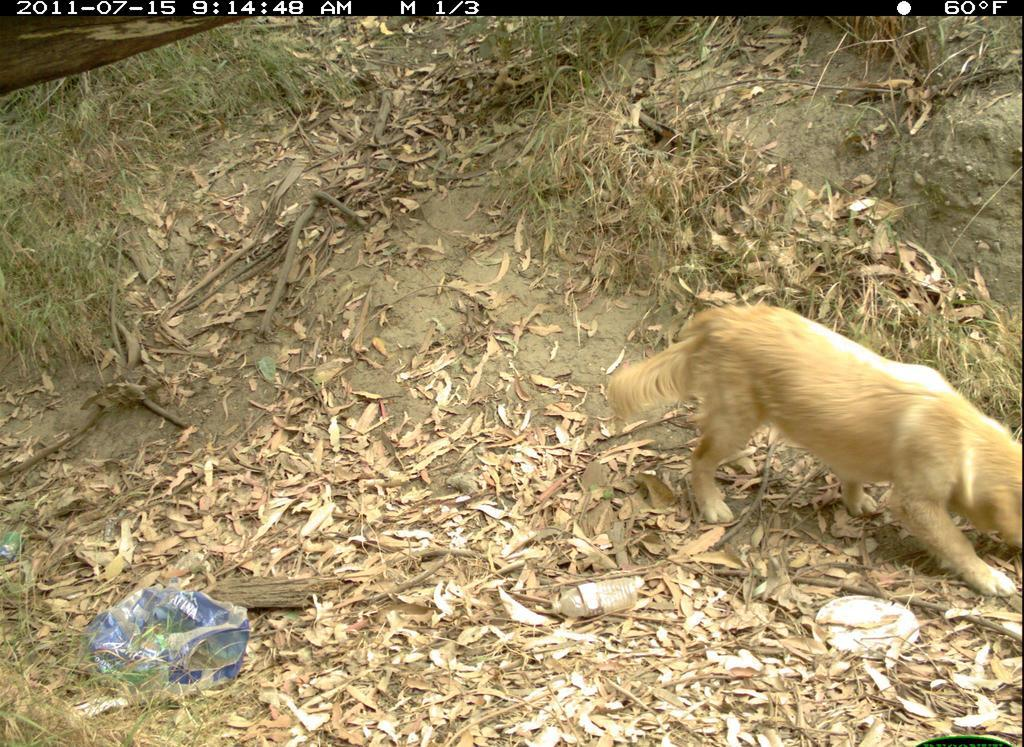dog: (605, 283, 1021, 585)
